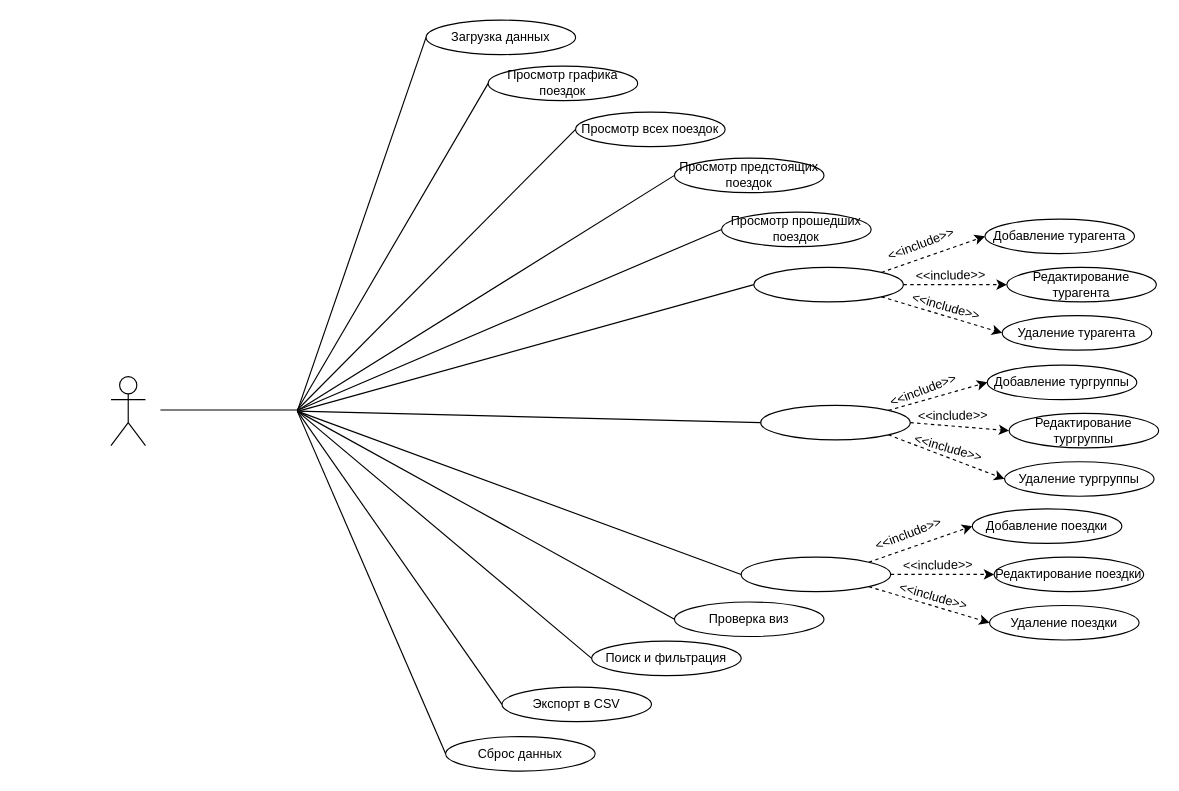
Some shapes in this 1179 by 791 pixel diagram are drawn without their labels. Each missing label, with the centre of its shape:
Управление графиком поездок: the point at 815,574
Управление турагентами: the point at 828,284
Управление тургруппами: the point at 835,422
Управляющий туристической компании: the point at 127,410
